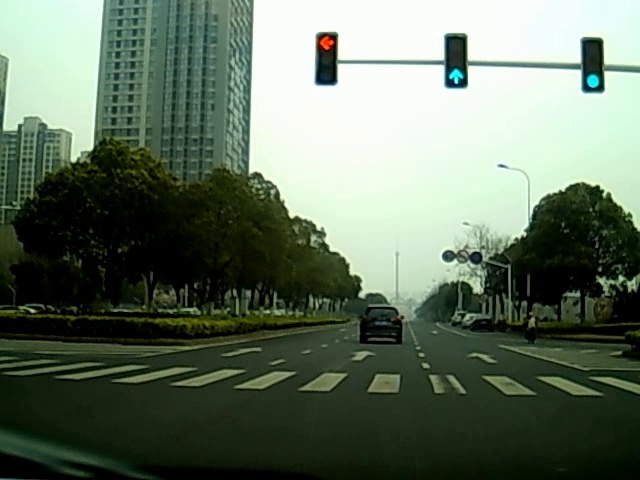Traffic_Light_go: (582, 56, 605, 94), (447, 52, 467, 90)
Traffic_Light_stop: (316, 33, 338, 68)
